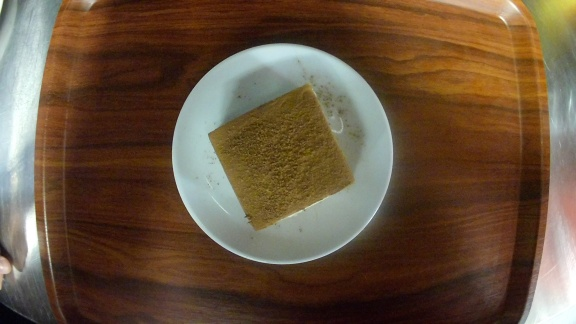tiramisu: (172, 42, 395, 263)
